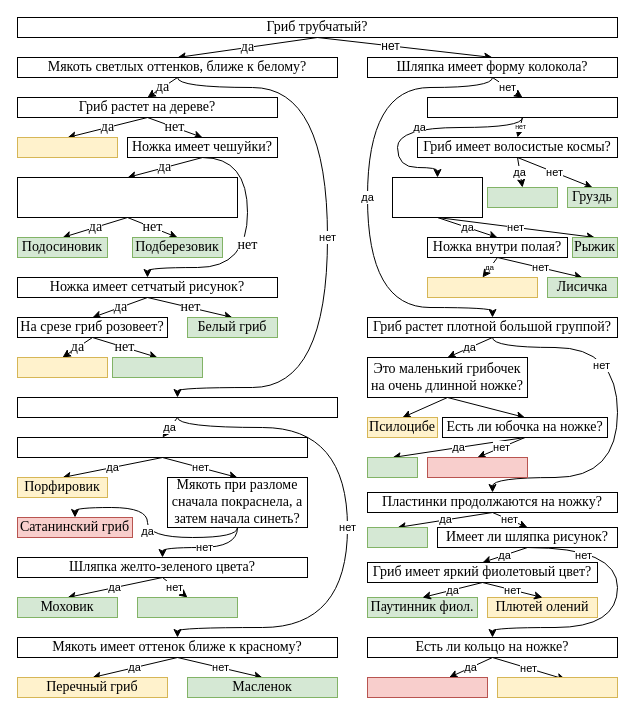
This 635x715 diagram has some shape labels left out. Each missing label, with the centre of its shape:
"Бледная поганка" goes at [427,687].
"Волнушка" goes at [522,197].
"Гриб желтых оттенков?" goes at [522,107].
"Дубовик" goes at [187,607].
"Желчный гриб" goes at [62,367].
"Края шляпки волнистые?" goes at [437,197].
"Ложная лисичка" goes at [482,287].
"Ложный опенок" goes at [477,467].
"Меняет ли цвет гриб на срезе?" goes at [177,407].
"Мокруха" goes at [397,537].
"Мякоть при разломе имеет неприятный запах?" goes at [162,447].
"Опёнок" goes at [392,467].
"Польский гриб" goes at [157,367].
"Сыроежка" goes at [557,687].
"Траметес Трога" goes at [67,147].
"Шляпка обладает насыщенным красным или оранжевым оттенком?" goes at [127,197].
